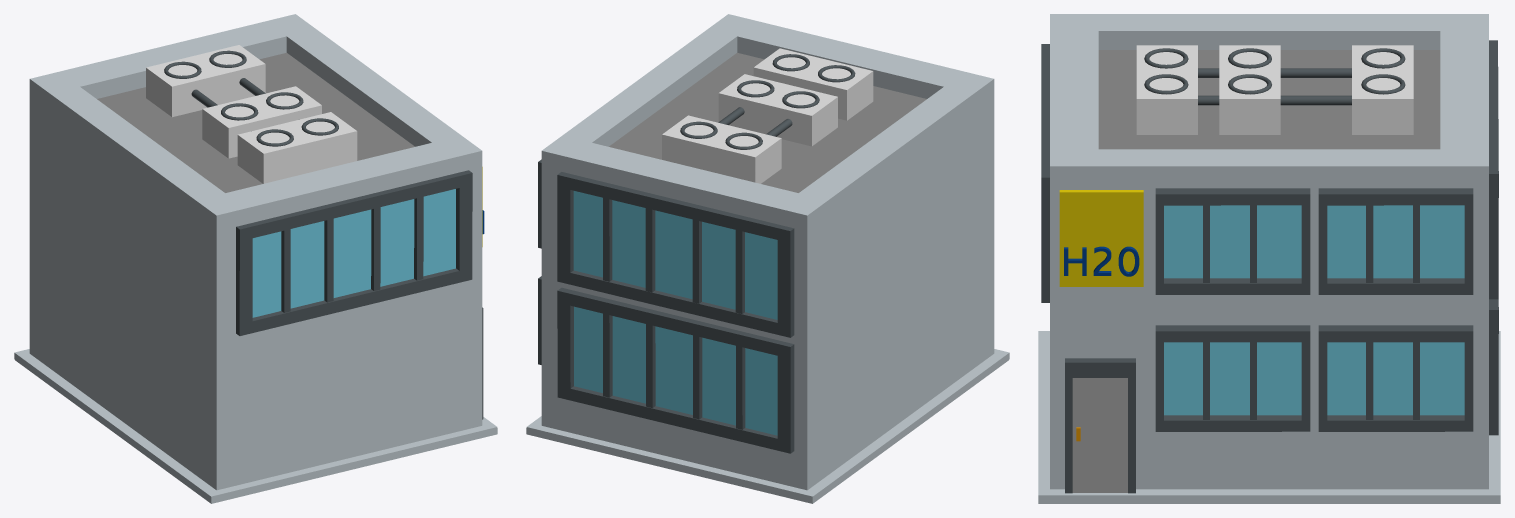
The model's file is EntranceBuilding.fbx.
3 views of the same model, side by side, from view 1: azimuth 30°, elevation 25°; view 2: azimuth 150°, elevation 25°; view 3: azimuth 270°, elevation 25° (orthographic). The views are drawn at different scales.
Parts seen in each view (by area): view 1: pasted__pCube20, pasted__pCube102, pasted__pCube57, pasted__pCube19, pasted__pCube21, pasted__pCube23, pasted__pCube22, pasted__pCube55, pasted__pCube56, pasted__pCube59, pasted__pCube58; view 2: pasted__pCube20, pasted__pCube100, pasted__pCube101, pasted__pCube29, pasted__pCube52, pasted__pCube19, pasted__pCube22, pasted__pCube23, pasted__pCube21, pasted__pCube51, pasted__pCube53, pasted__pCube54 (+5 smaller); view 3: pasted__pCube20, pasted__pCube19, pasted__pCube99, pasted__pCube137, pasted__pCube146, pasted__pCube147, pasted__pCube24, pasted__pCube136, pasted__pCube141, pasted__pCube60, pasted__pCube140, pasted__pCube95 (+18 smaller).
Boxes of the visible parts, x1,y1,x2,y2 form: pasted__pCube20: [29, 14, 482, 490]; pasted__pCube102: [252, 189, 455, 317]; pasted__pCube57: [236, 170, 472, 335]; pasted__pCube19: [14, 349, 497, 503]; pasted__pCube21: [237, 112, 357, 183]; pasted__pCube23: [146, 45, 265, 117]; pasted__pCube22: [202, 86, 321, 158]; pasted__pCube55: [281, 229, 290, 312]; pasted__pCube56: [324, 218, 333, 302]; pasted__pCube59: [414, 196, 423, 280]; pasted__pCube58: [371, 207, 380, 290]; pasted__pCube20: [541, 14, 994, 490]; pasted__pCube100: [573, 191, 777, 319]; pasted__pCube101: [574, 306, 777, 435]; pasted__pCube29: [557, 287, 794, 453]; pasted__pCube52: [557, 172, 794, 337]; pasted__pCube19: [526, 349, 1009, 503]; pasted__pCube22: [718, 74, 837, 146]; pasted__pCube23: [662, 115, 781, 183]; pasted__pCube21: [753, 48, 873, 120]; pasted__pCube51: [645, 208, 655, 292]; pasted__pCube53: [692, 219, 701, 303]; pasted__pCube54: [735, 230, 744, 313]; pasted__pCube20: [1050, 14, 1488, 489]; pasted__pCube19: [1038, 331, 1500, 503]; pasted__pCube99: [1164, 205, 1301, 278]; pasted__pCube137: [1327, 205, 1464, 278]; pasted__pCube146: [1164, 342, 1301, 415]; pasted__pCube147: [1327, 342, 1464, 415]; pasted__pCube24: [1059, 190, 1143, 286]; pasted__pCube136: [1318, 188, 1473, 294]; pasted__pCube141: [1318, 325, 1473, 431]; pasted__pCube60: [1155, 188, 1310, 294]; pasted__pCube140: [1155, 325, 1310, 431]; pasted__pCube95: [1072, 378, 1127, 492].
Size of the model in its own units: 2.99 by 2.98 by 3.56.
